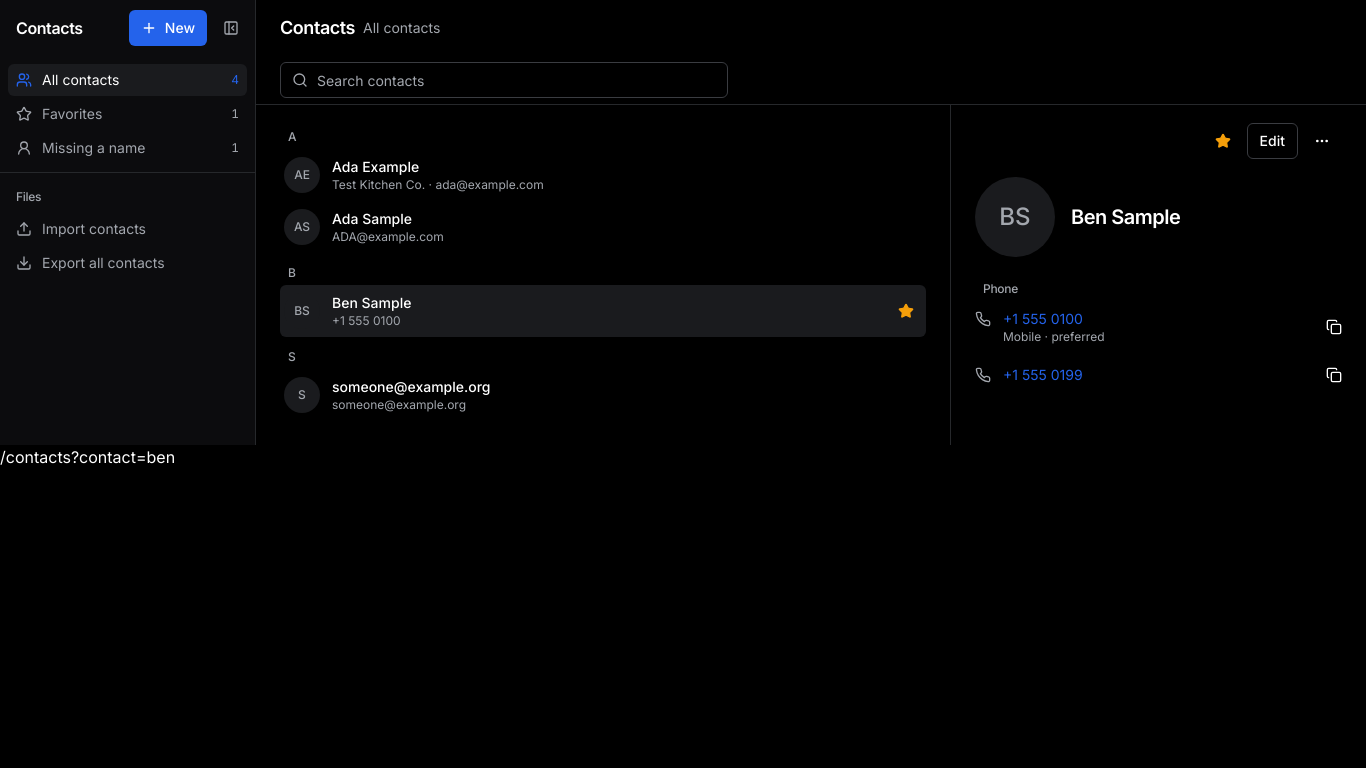
Test: Contacts › asks before deleting a contact
This screenshot has width=1366, height=768.
Press the mouse on the button named "More actions for Ben Sample" at (1322, 141), box 1302,121 -> 1342,161
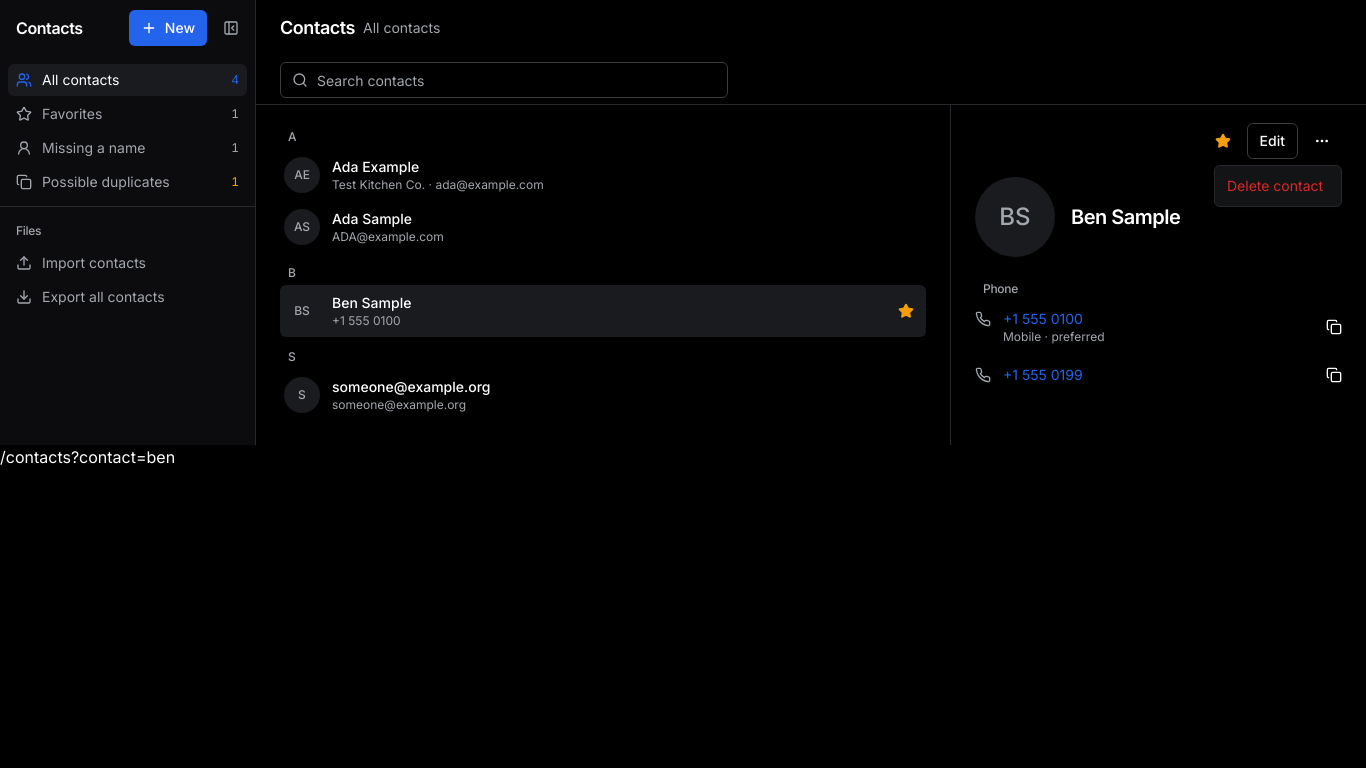
Click the menu item "Delete contact" at (1275, 186), box 1227,177 -> 1323,194
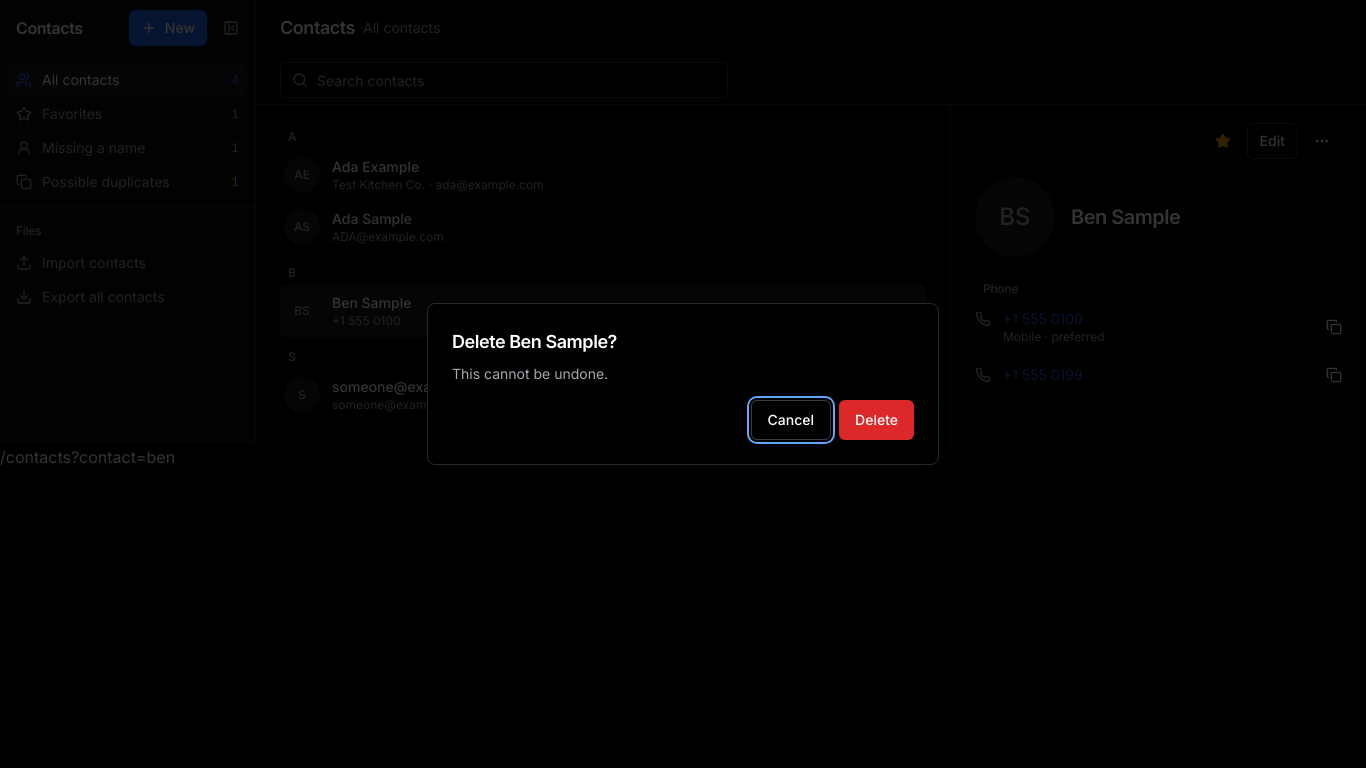
Click the button "Delete" at (877, 420), box 839,400 -> 914,440
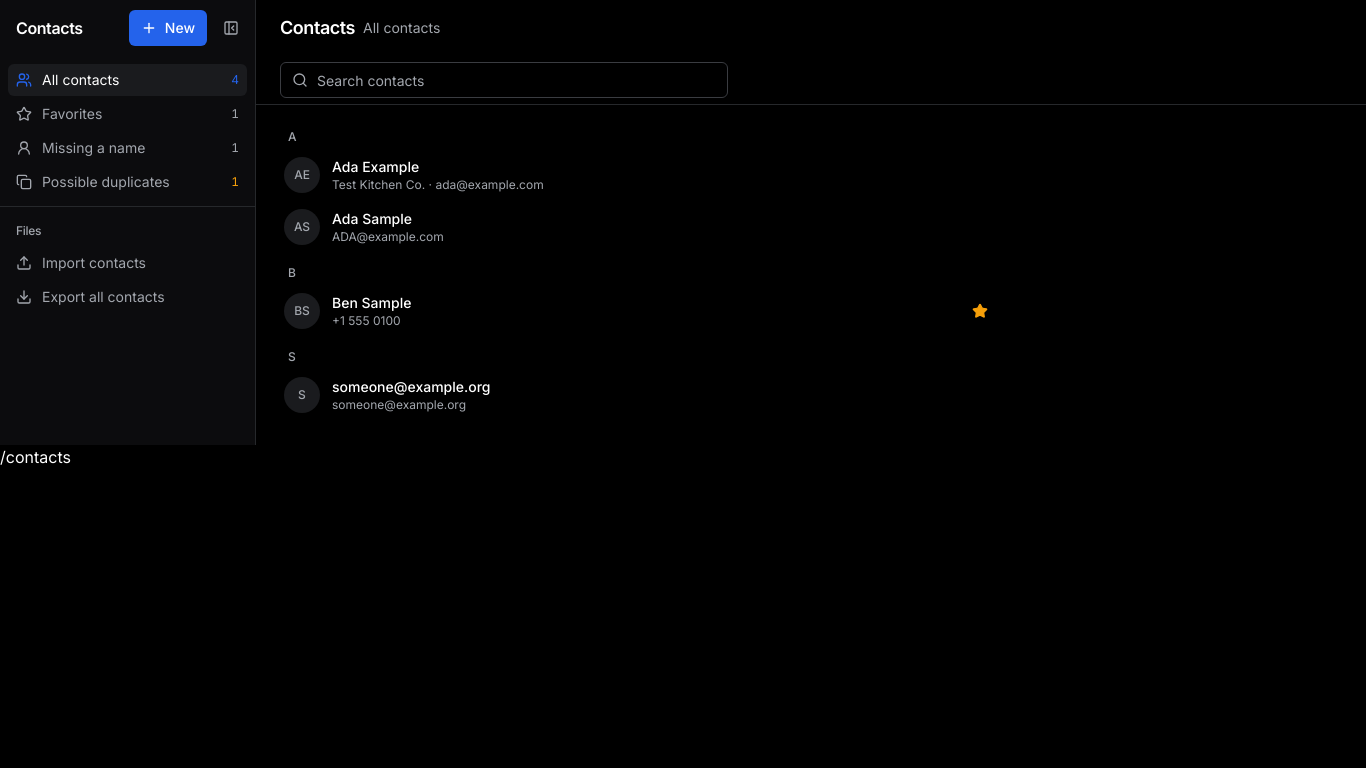
Expected: the text with test id "location" reads "/contacts", 0,447 -> 71,467
